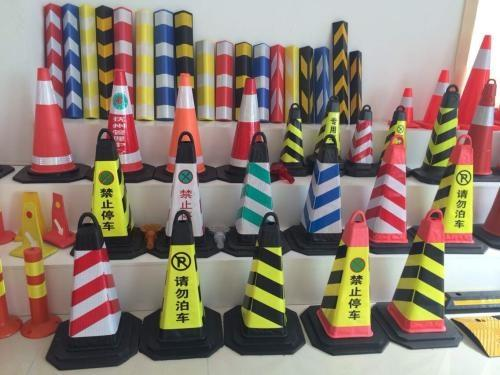cone_barrel: (56, 213, 128, 358), (314, 214, 378, 347), (383, 208, 449, 334), (151, 214, 212, 349), (235, 209, 295, 344), (361, 104, 412, 250), (80, 130, 135, 243), (21, 70, 77, 177), (427, 138, 477, 248), (295, 134, 343, 247), (161, 73, 210, 177), (161, 129, 205, 242), (233, 132, 276, 240), (104, 67, 145, 177), (416, 82, 460, 178), (226, 77, 264, 176), (464, 75, 496, 176), (457, 36, 494, 123), (20, 246, 51, 334), (310, 96, 345, 173), (275, 97, 305, 169), (420, 68, 452, 126), (349, 102, 376, 166), (43, 191, 72, 249), (476, 180, 499, 244), (398, 84, 414, 133)
